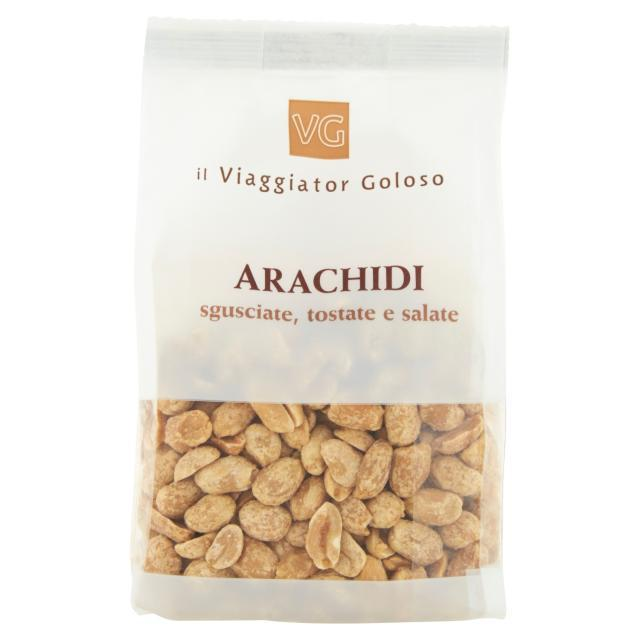Frutta secca: (162, 412, 474, 564)
